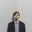face: (13, 10, 20, 21)
